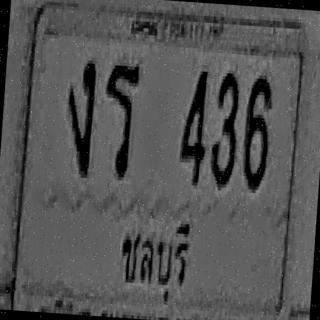A07: (62, 59, 96, 175)
A35: (100, 58, 141, 178)
N03: (209, 69, 240, 188)
N04: (178, 67, 210, 186)
N06: (242, 71, 273, 190)
P13: (113, 202, 200, 309)
